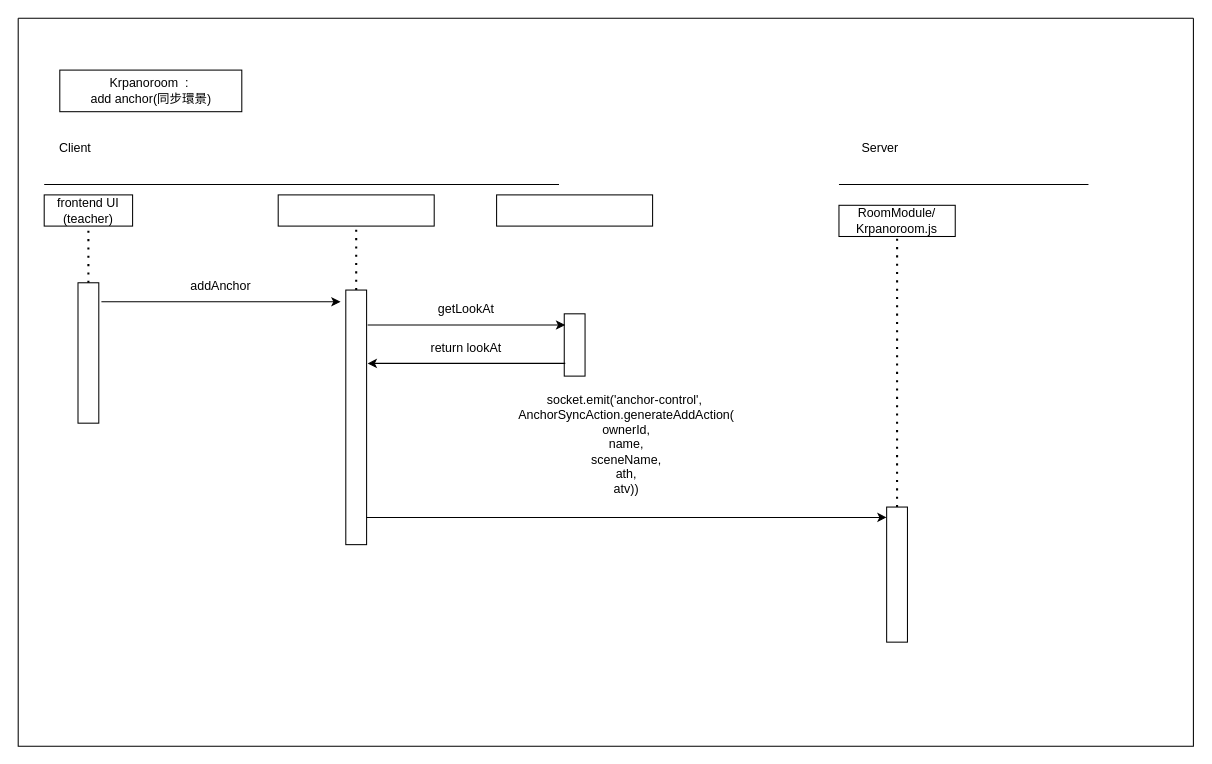
The diagram is 1212 pixels wide and 764 high, and some of its shapes have lost their labels. The centre of each missing label's shape, as x and y in pixels:
"RoomModule/ KrpanoInterface" belongs at (x=574, y=210).
"RoomModule/ KrpanoroomClient" belongs at (x=355, y=210).
